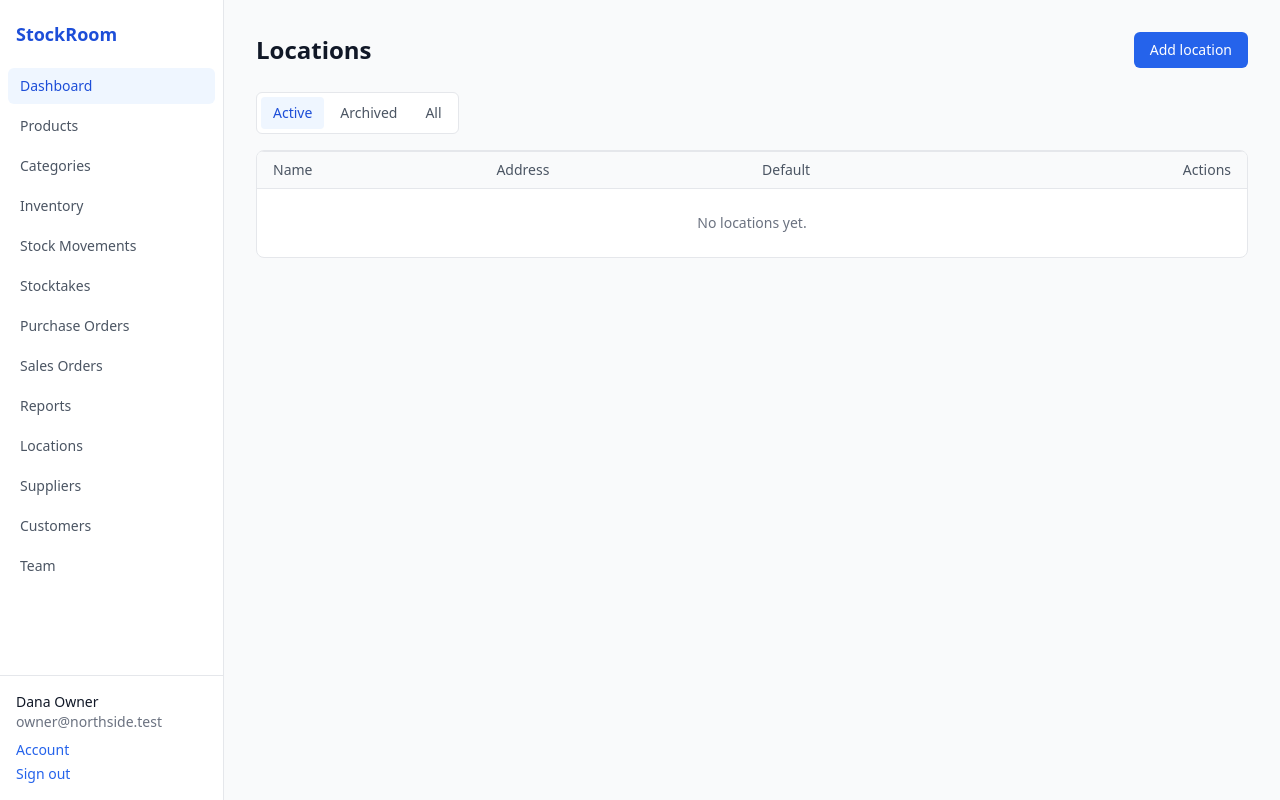
it: LocationsPage create › closes the form and shows the new row on success
Expected: the text "No locations yet." is shown, x1=257 y1=188 x2=1247 y2=257
Click the button "Add location" at (1191, 50), box x1=1134 y1=32 x2=1248 y2=68
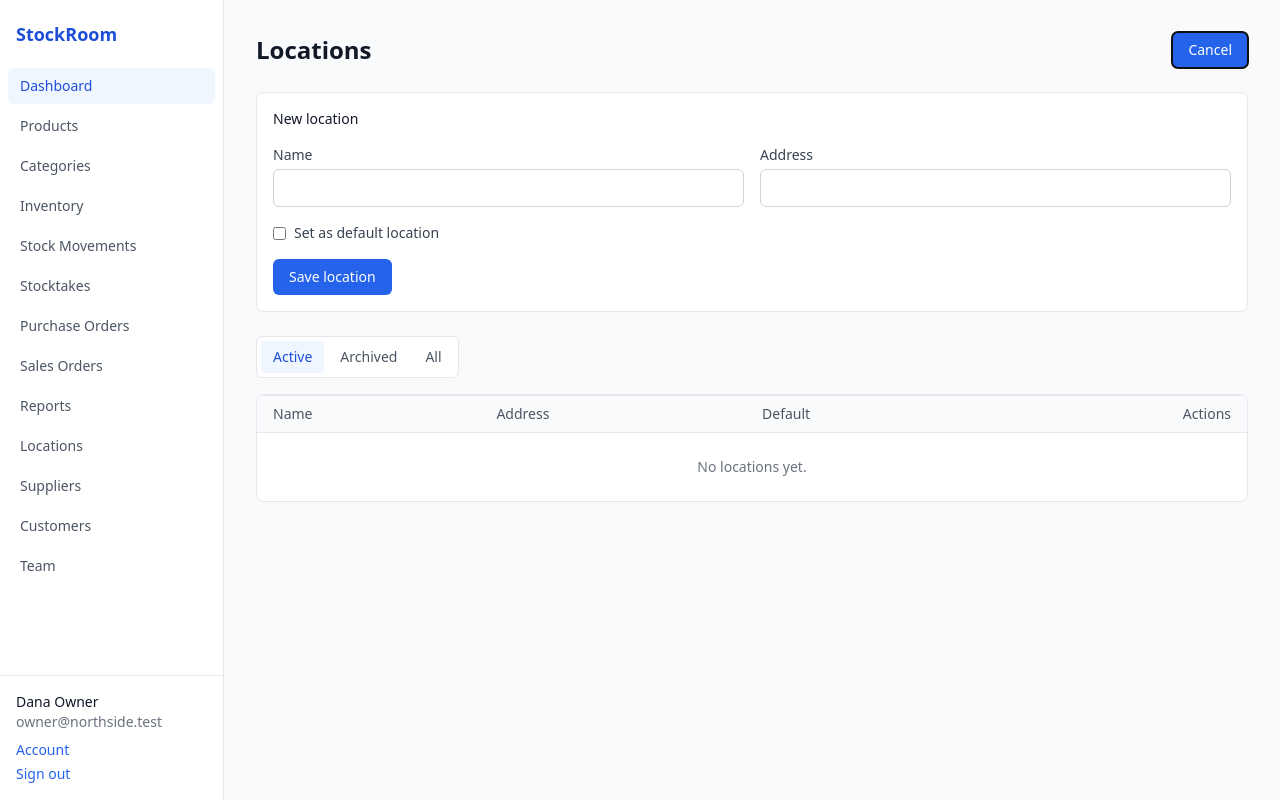
Type "Storefront" into the field labelled "Name" at (508, 188), box x1=273 y1=169 x2=744 y2=207
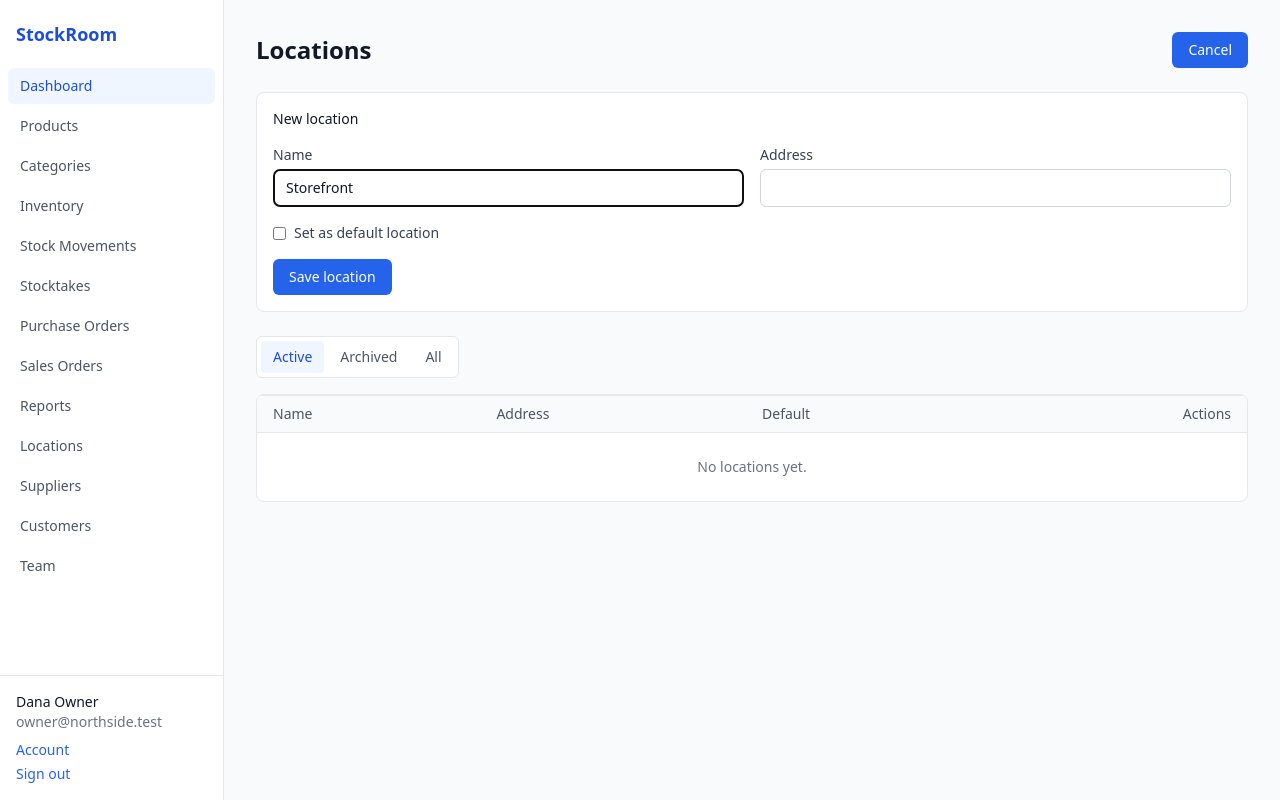
Click the button "Save location" at (332, 277), box x1=273 y1=259 x2=392 y2=295
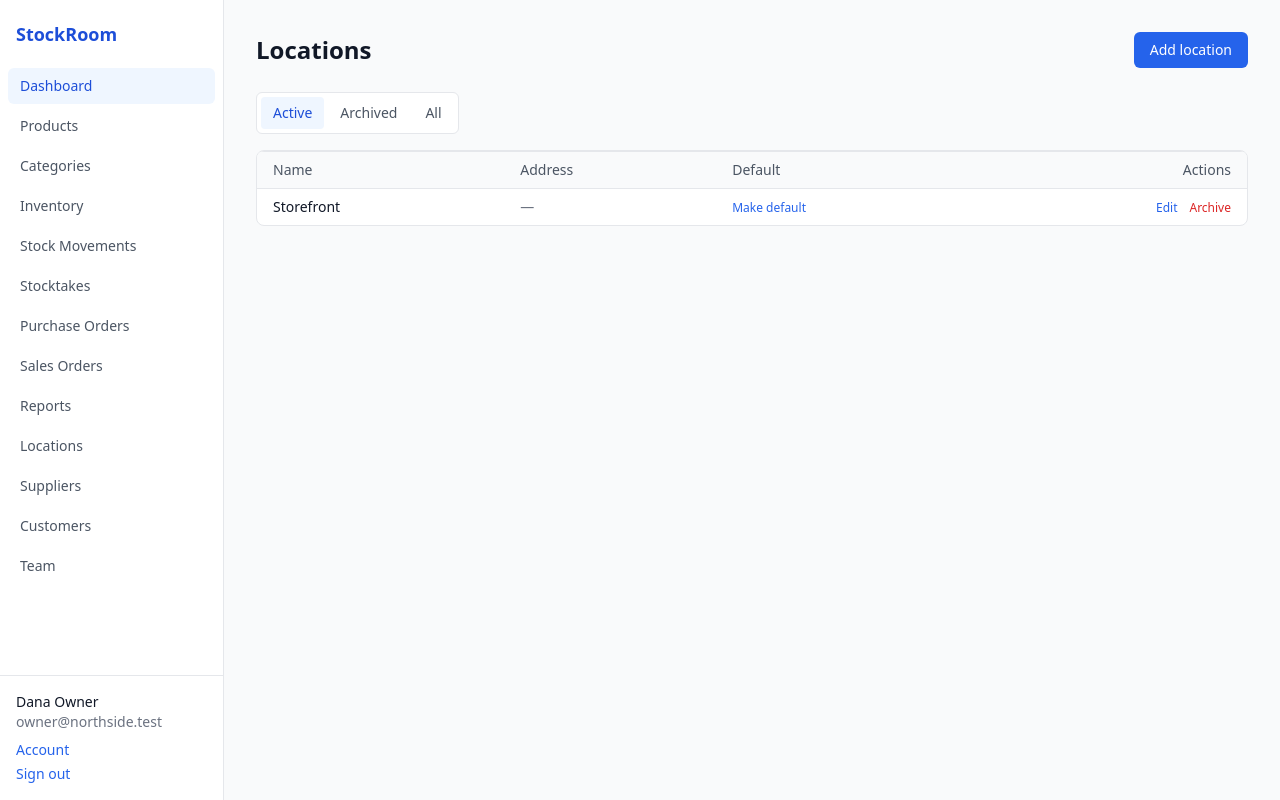
Expected: the text "Storefront" is shown, x1=257 y1=188 x2=504 y2=225
